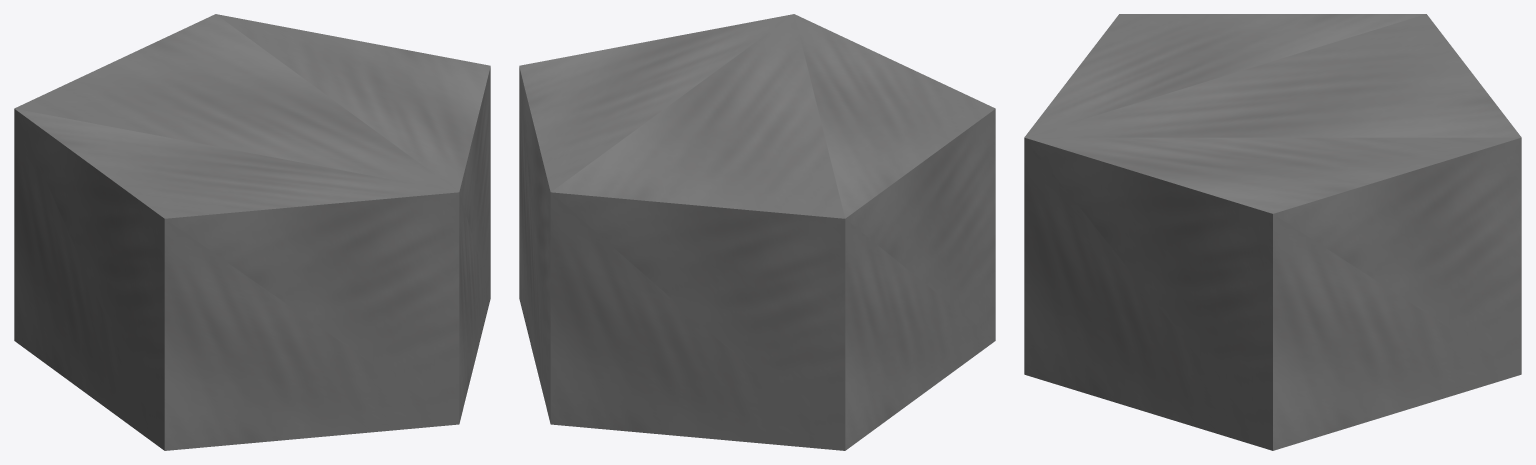
Rendered from aluPenta.obj.
The picture shows the model from 3 angles, left to right: view 1: azimuth 30°, elevation 25°; view 2: azimuth 150°, elevation 25°; view 3: azimuth 270°, elevation 25°; orthographic projection. The views are drawn at different scales.
Visible parts, largest first — view 1: pCylinder9; view 2: pCylinder9; view 3: pCylinder9.
Part boxes in pixels (x1=…): pCylinder9: x1=14, y1=14, x2=490, y2=450; pCylinder9: x1=519, y1=14, x2=995, y2=450; pCylinder9: x1=1024, y1=14, x2=1521, y2=450.
Size of the model in its own units: 1.81 by 1 by 1.9.
Materials: 1 (1 with a texture image).
